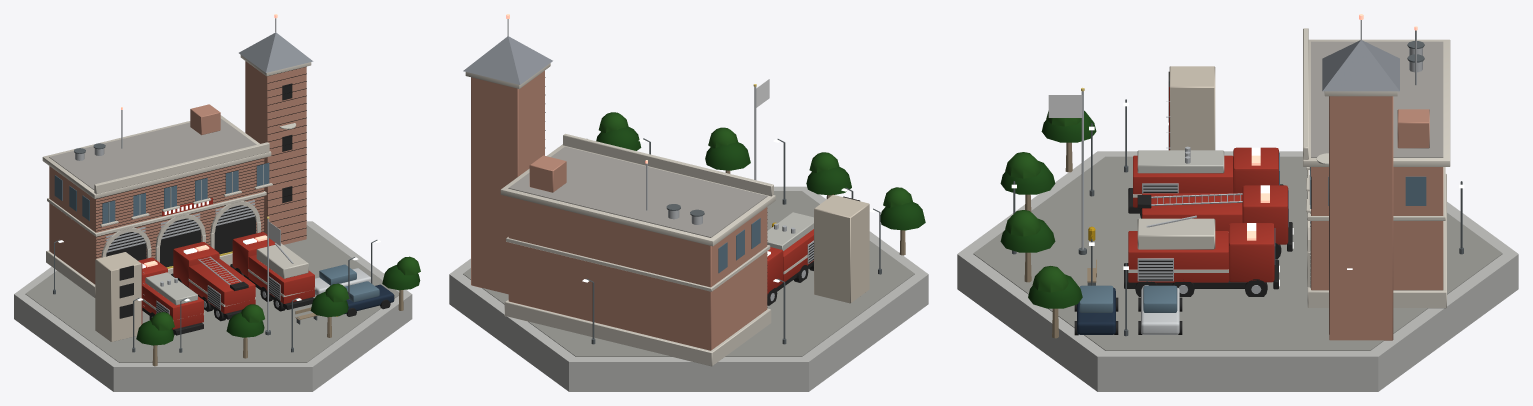
The model's file is fireStation.glb.
3 renders of one model, left to right at view 1: azimuth 30°, elevation 25°; view 2: azimuth 150°, elevation 25°; view 3: azimuth 270°, elevation 25°, orthographic. The views are drawn at different scales.
Visible parts, largest first — view 1: brick, wall_concrete, pavers, stone, paint, dark, gravel, leaf, glass, metal, roof_slate, steel_dark (+1 smaller); view 2: brick, wall_concrete, stone, pavers, gravel, leaf, paint, roof_slate, steel_dark, metal, glass, dark; view 3: pavers, wall_concrete, brick, paint, stone, gravel, leaf, dark, roof_slate, metal, glass, steel_dark (+2 smaller).
Boxes of the visible parts, bbox=[...] form: brick: bbox=[49, 61, 306, 284]; wall_concrete: bbox=[14, 164, 412, 391]; pavers: bbox=[25, 225, 399, 362]; stone: bbox=[42, 55, 311, 341]; paint: bbox=[138, 123, 394, 329]; dark: bbox=[96, 66, 390, 335]; gravel: bbox=[49, 118, 256, 189]; leaf: bbox=[136, 256, 420, 345]; glass: bbox=[54, 163, 379, 302]; metal: bbox=[75, 18, 293, 331]; roof_slate: bbox=[239, 32, 313, 72]; steel_dark: bbox=[53, 143, 377, 352]; brick: bbox=[471, 70, 767, 350]; wall_concrete: bbox=[449, 186, 928, 391]; stone: bbox=[465, 63, 869, 366]; pavers: bbox=[463, 191, 914, 356]; gravel: bbox=[508, 146, 767, 237]; leaf: bbox=[596, 112, 925, 230]; paint: bbox=[767, 194, 833, 294]; roof_slate: bbox=[463, 36, 552, 84]; steel_dark: bbox=[586, 138, 881, 344]; metal: bbox=[507, 19, 813, 300]; glass: bbox=[718, 218, 760, 273]; dark: bbox=[545, 77, 859, 307]; pavers: bbox=[973, 156, 1502, 350]; wall_concrete: bbox=[957, 151, 1518, 391]; brick: bbox=[1311, 96, 1443, 340]; paint: bbox=[1077, 87, 1328, 334]; stone: bbox=[1169, 28, 1450, 308]; gravel: bbox=[1311, 41, 1443, 157]; leaf: bbox=[1000, 110, 1096, 308]; dark: bbox=[1074, 71, 1329, 335]; roof_slate: bbox=[1322, 40, 1399, 91]; metal: bbox=[1081, 20, 1422, 293]; glass: bbox=[1079, 152, 1426, 312]; steel_dark: bbox=[1012, 41, 1463, 336].
Size of the model in its own units: 21.3 by 16.8 by 24.6.
